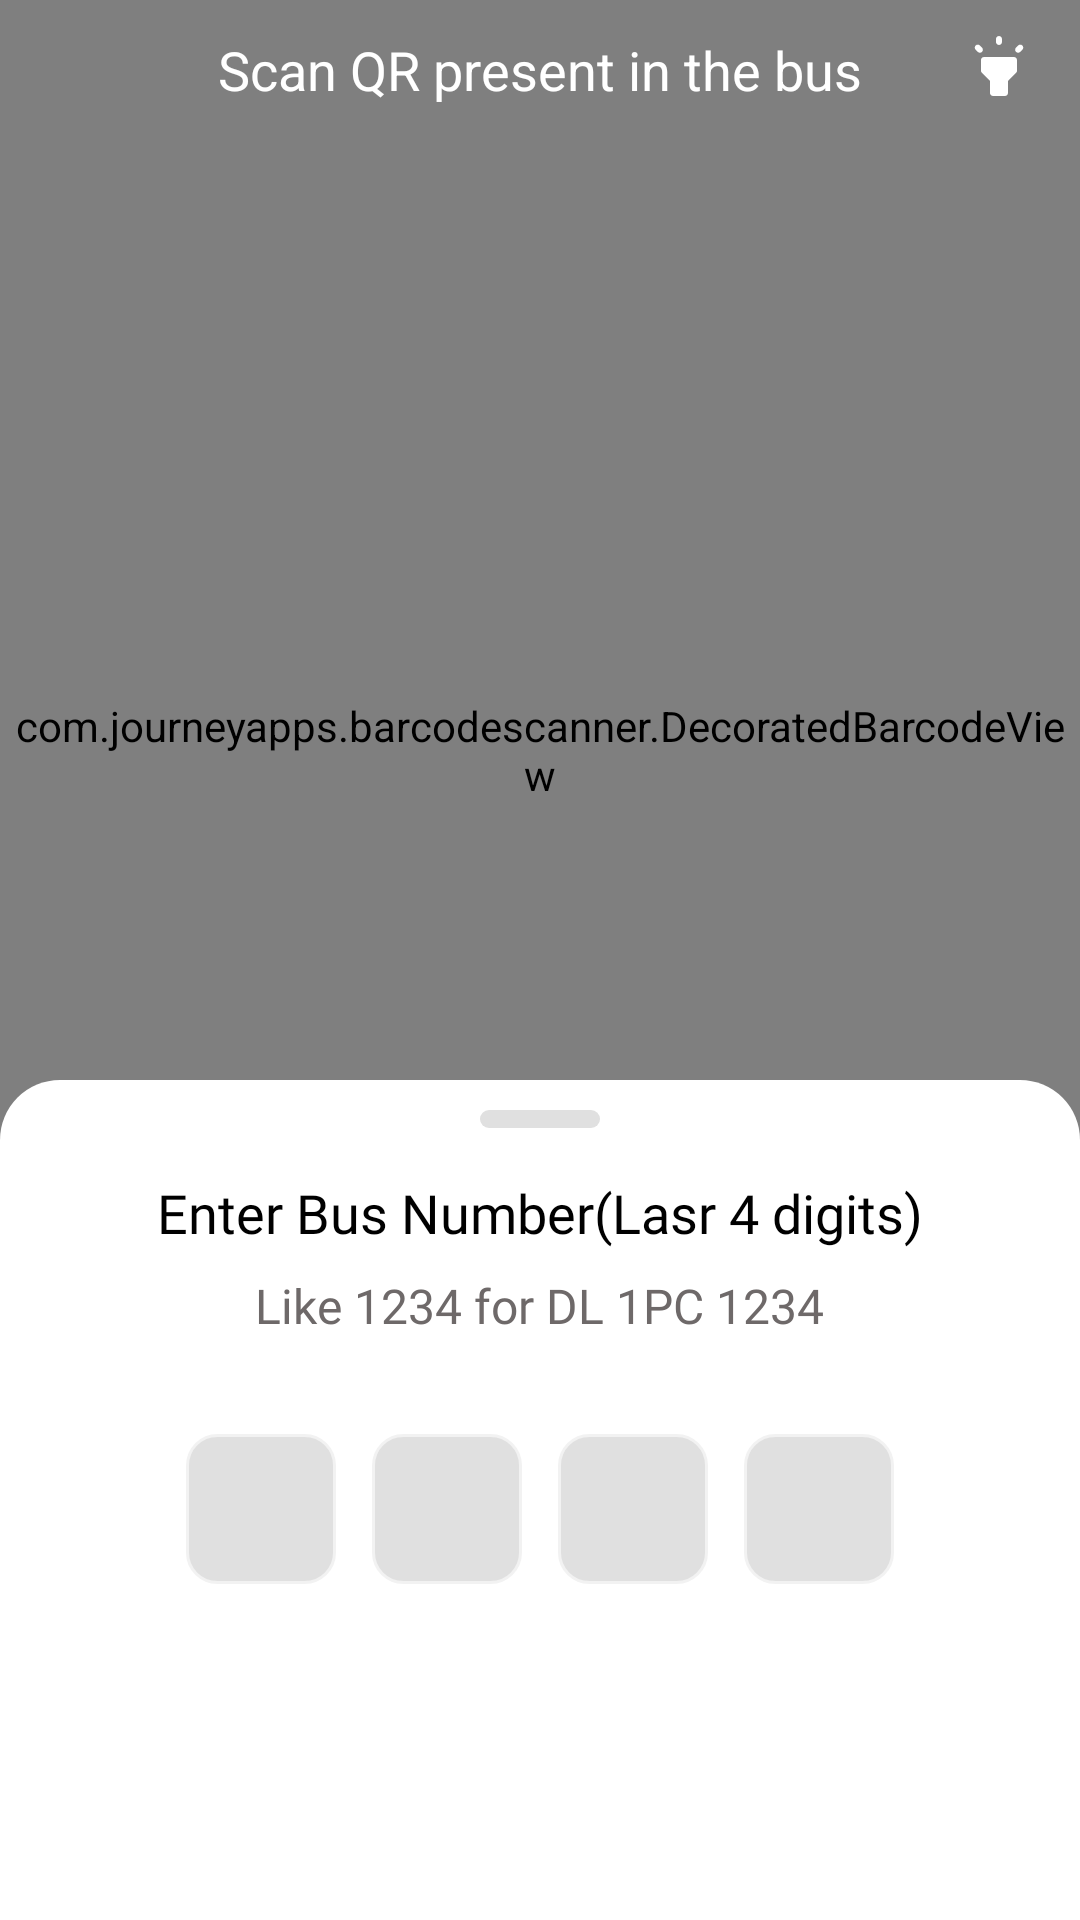

Icons on this 1080 x 1920 Android screen, each with the point to tap as (x=x, y=y):
torch off: (x=999, y=66)
